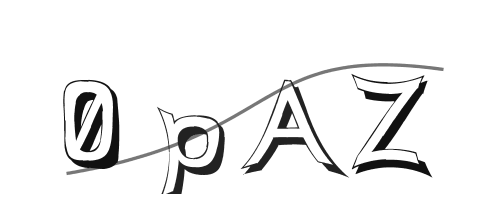0: (58, 77, 118, 169)
A: (242, 76, 345, 177)
Z: (348, 64, 437, 180)
p: (154, 104, 227, 197)
